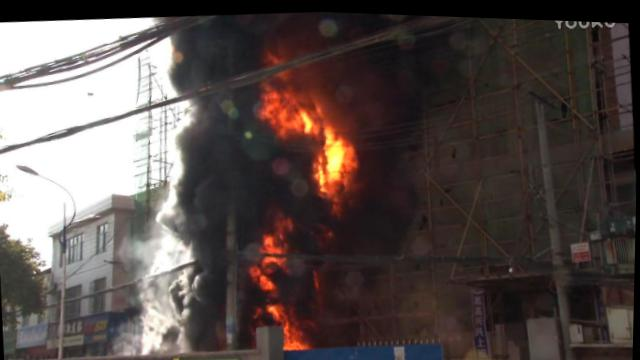fire: (258, 87, 291, 131), (288, 87, 320, 132), (319, 125, 341, 176), (282, 318, 311, 349), (336, 136, 356, 170), (258, 230, 285, 250), (313, 154, 327, 191), (257, 271, 276, 288), (269, 301, 285, 321), (263, 252, 287, 264), (248, 263, 262, 275)
